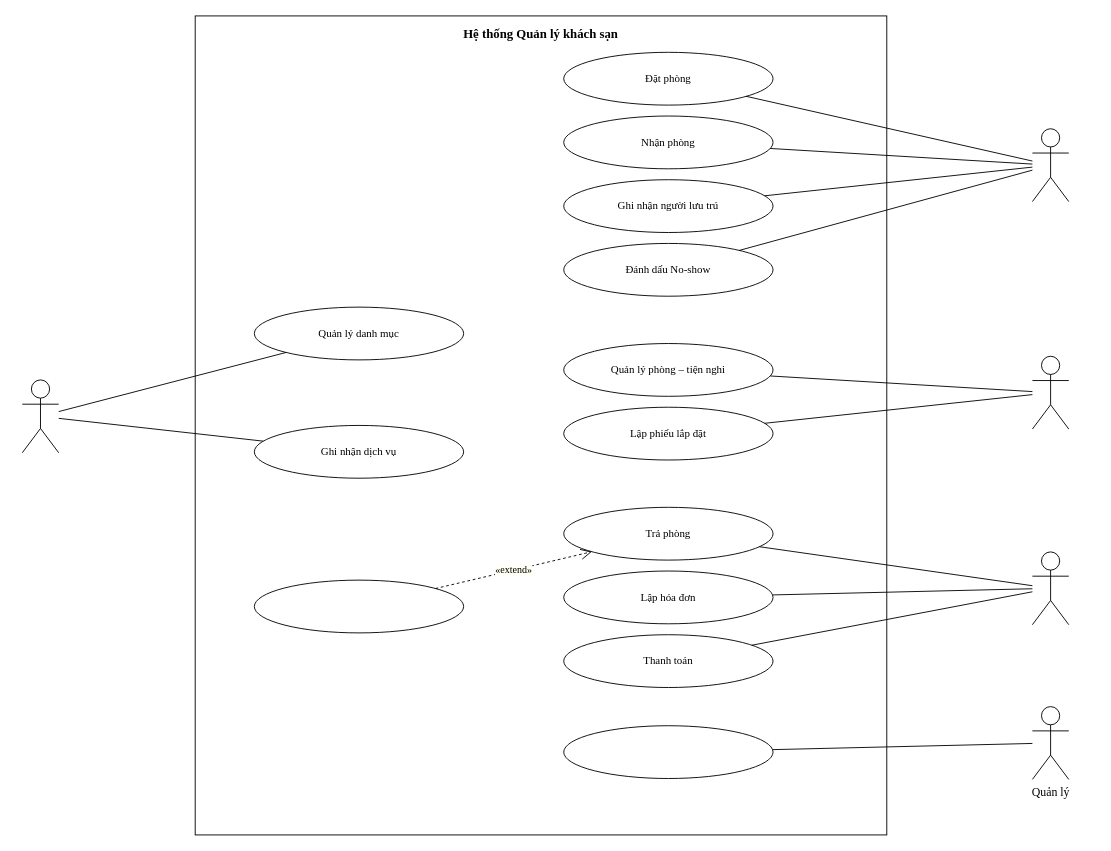
This 1111x851 diagram has some shape labels left out. The centre of each missing label's shape, as x and y in pixels:
Lập phiếu đền bù: [358,606]
Nhân viên: [40,416]
NV lễ tân: [1050,165]
NV phục vụ phòng: [1050,392]
NV thanh toán: [1050,588]
Tra cứu / thống kê: [668,752]
